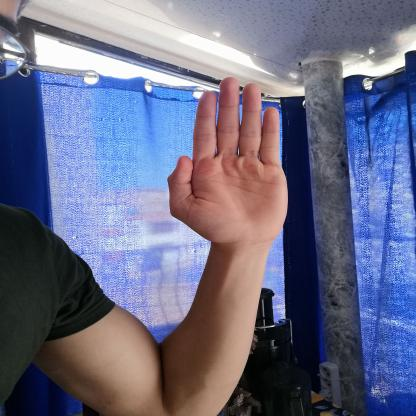SEEN: (152, 69, 305, 253)
